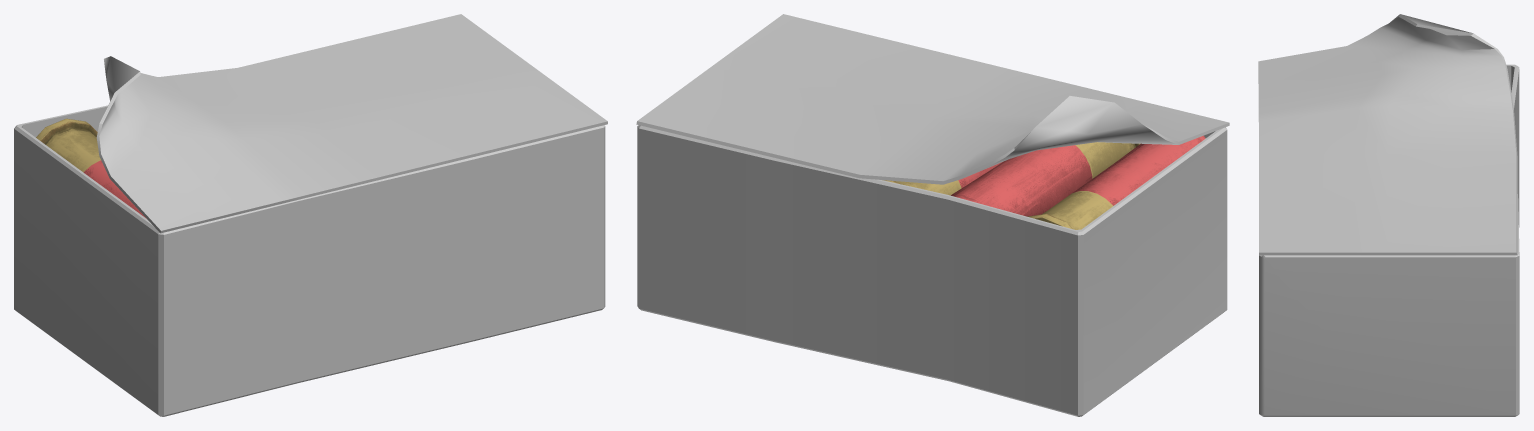
Rendered from ShotgunAmmoBoxMesh_v2.fbx.
3 renders of one model, left to right at view 1: azimuth 30°, elevation 25°; view 2: azimuth 150°, elevation 25°; view 3: azimuth 270°, elevation 25°, orthographic. The views are drawn at different scales.
Visible parts, largest first — view 1: ShotgunAmmoBox_Mesh; view 2: ShotgunAmmoBox_Mesh; view 3: ShotgunAmmoBox_Mesh.
Part boxes in pixels (box(x1,y1,x2,y2)): ShotgunAmmoBox_Mesh: box(14, 14, 607, 416); ShotgunAmmoBox_Mesh: box(636, 14, 1229, 416); ShotgunAmmoBox_Mesh: box(1258, 14, 1519, 416).
Bounding box in the file's own units: 24.59 × 13.67 × 13.94.
